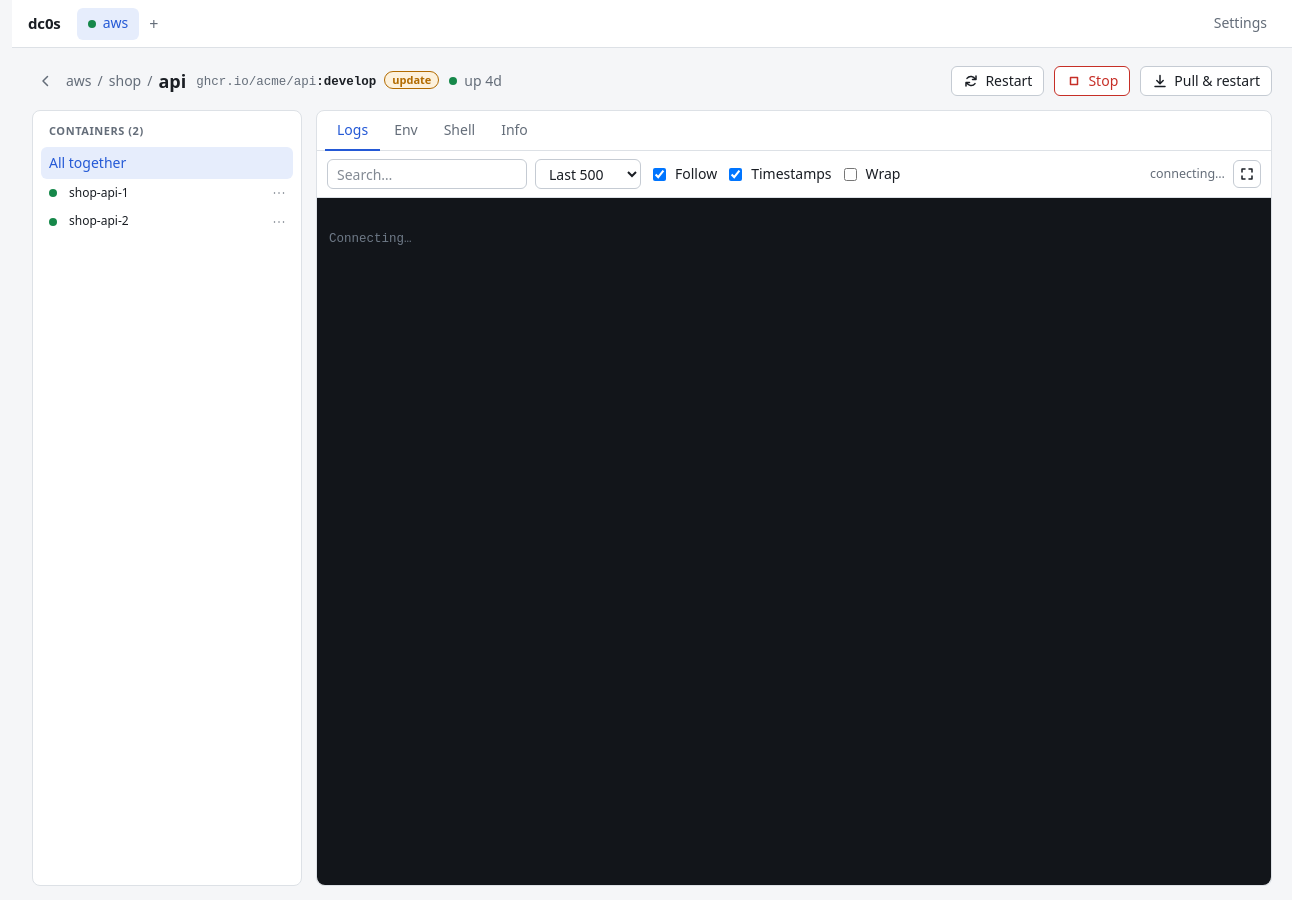
Scenario: ServicePage › choosing a tab or a container updates the address
Expected: the tab "Logs" is shown, [325, 111, 380, 151]
Click the button "shop-api-2" at (162,222), box [61, 207, 263, 236]
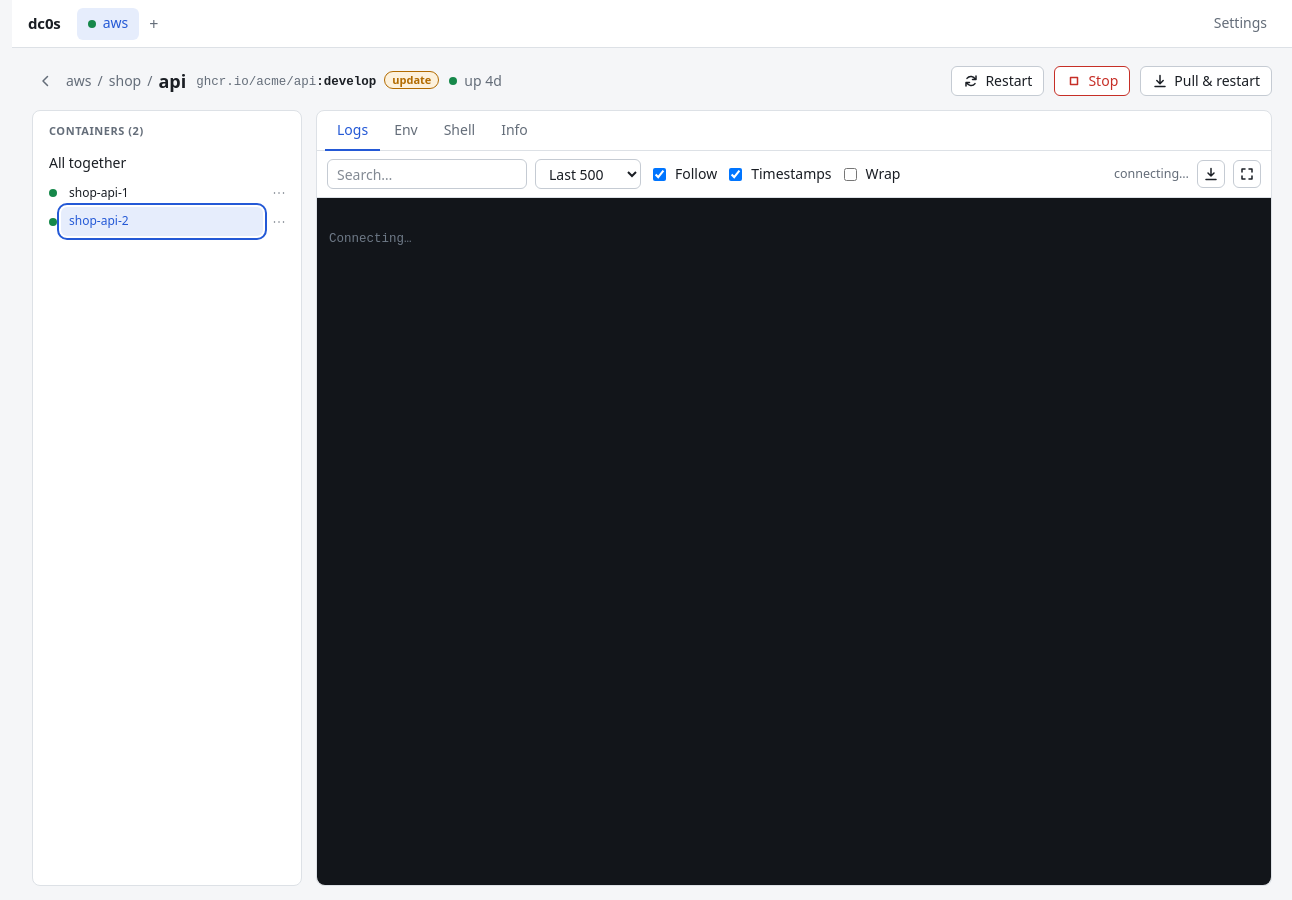
Click the tab "Env" at (406,131), box [382, 111, 430, 151]
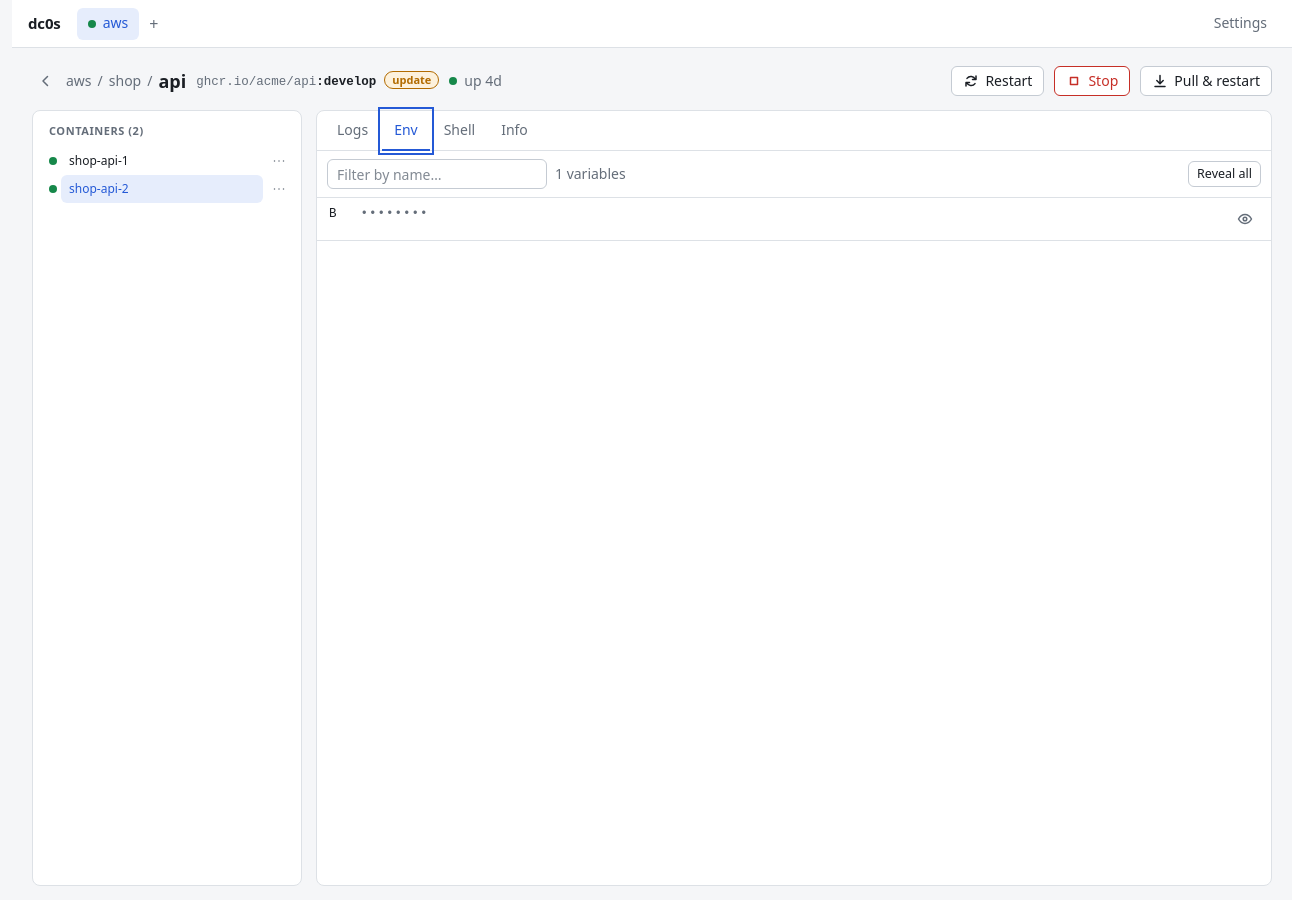
Click the tab "Logs" at (353,131), box [325, 111, 380, 151]
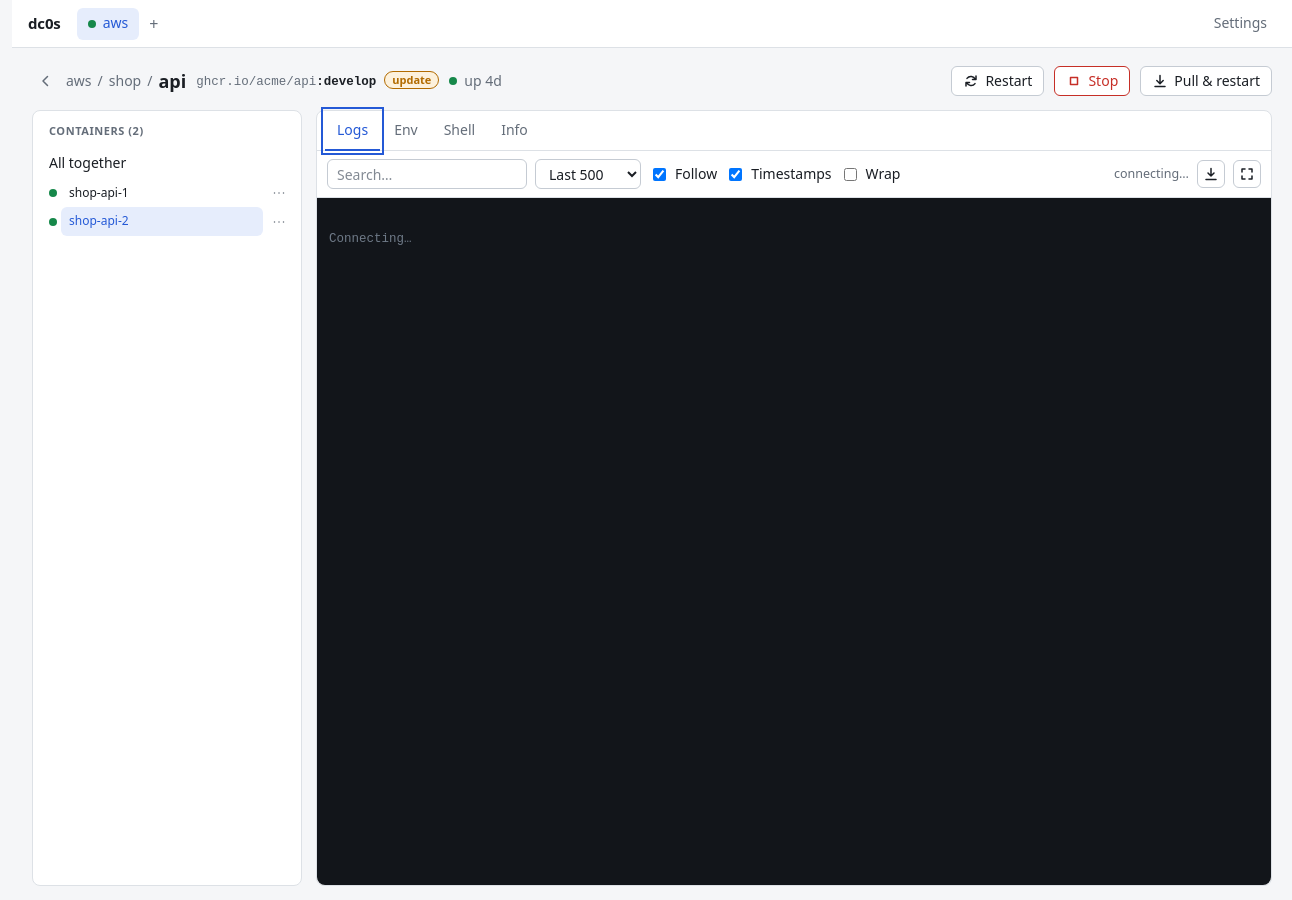
Click the button "All together" at (167,163), box [41, 147, 293, 179]
(page scrolled)
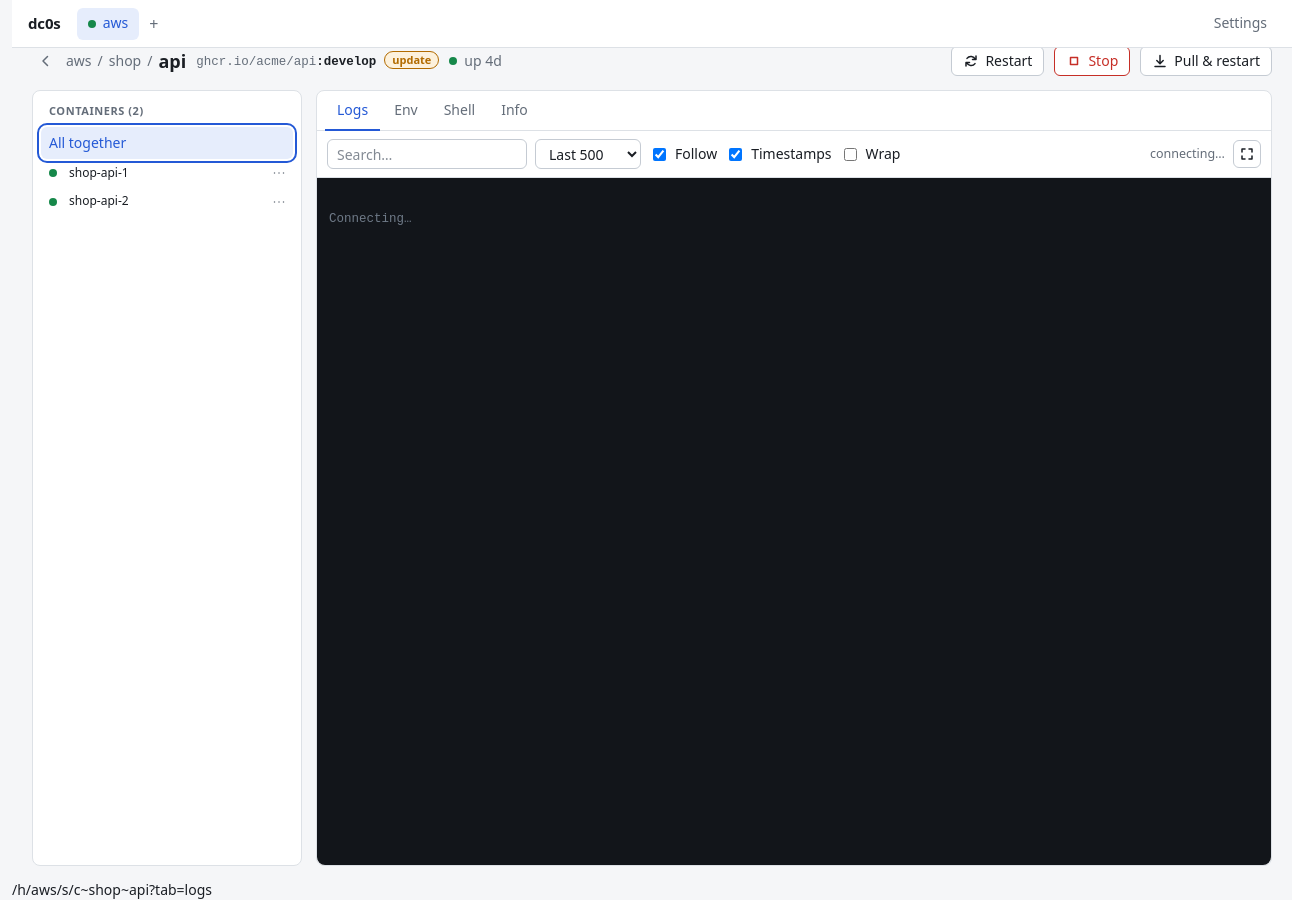
Expected: the text with test id "where" reads "/h/aws/s/c~shop~api?tab=logs", [12, 880, 212, 899]
Expected: the text with test id "where" no longer shows "c=", [12, 880, 212, 899]
